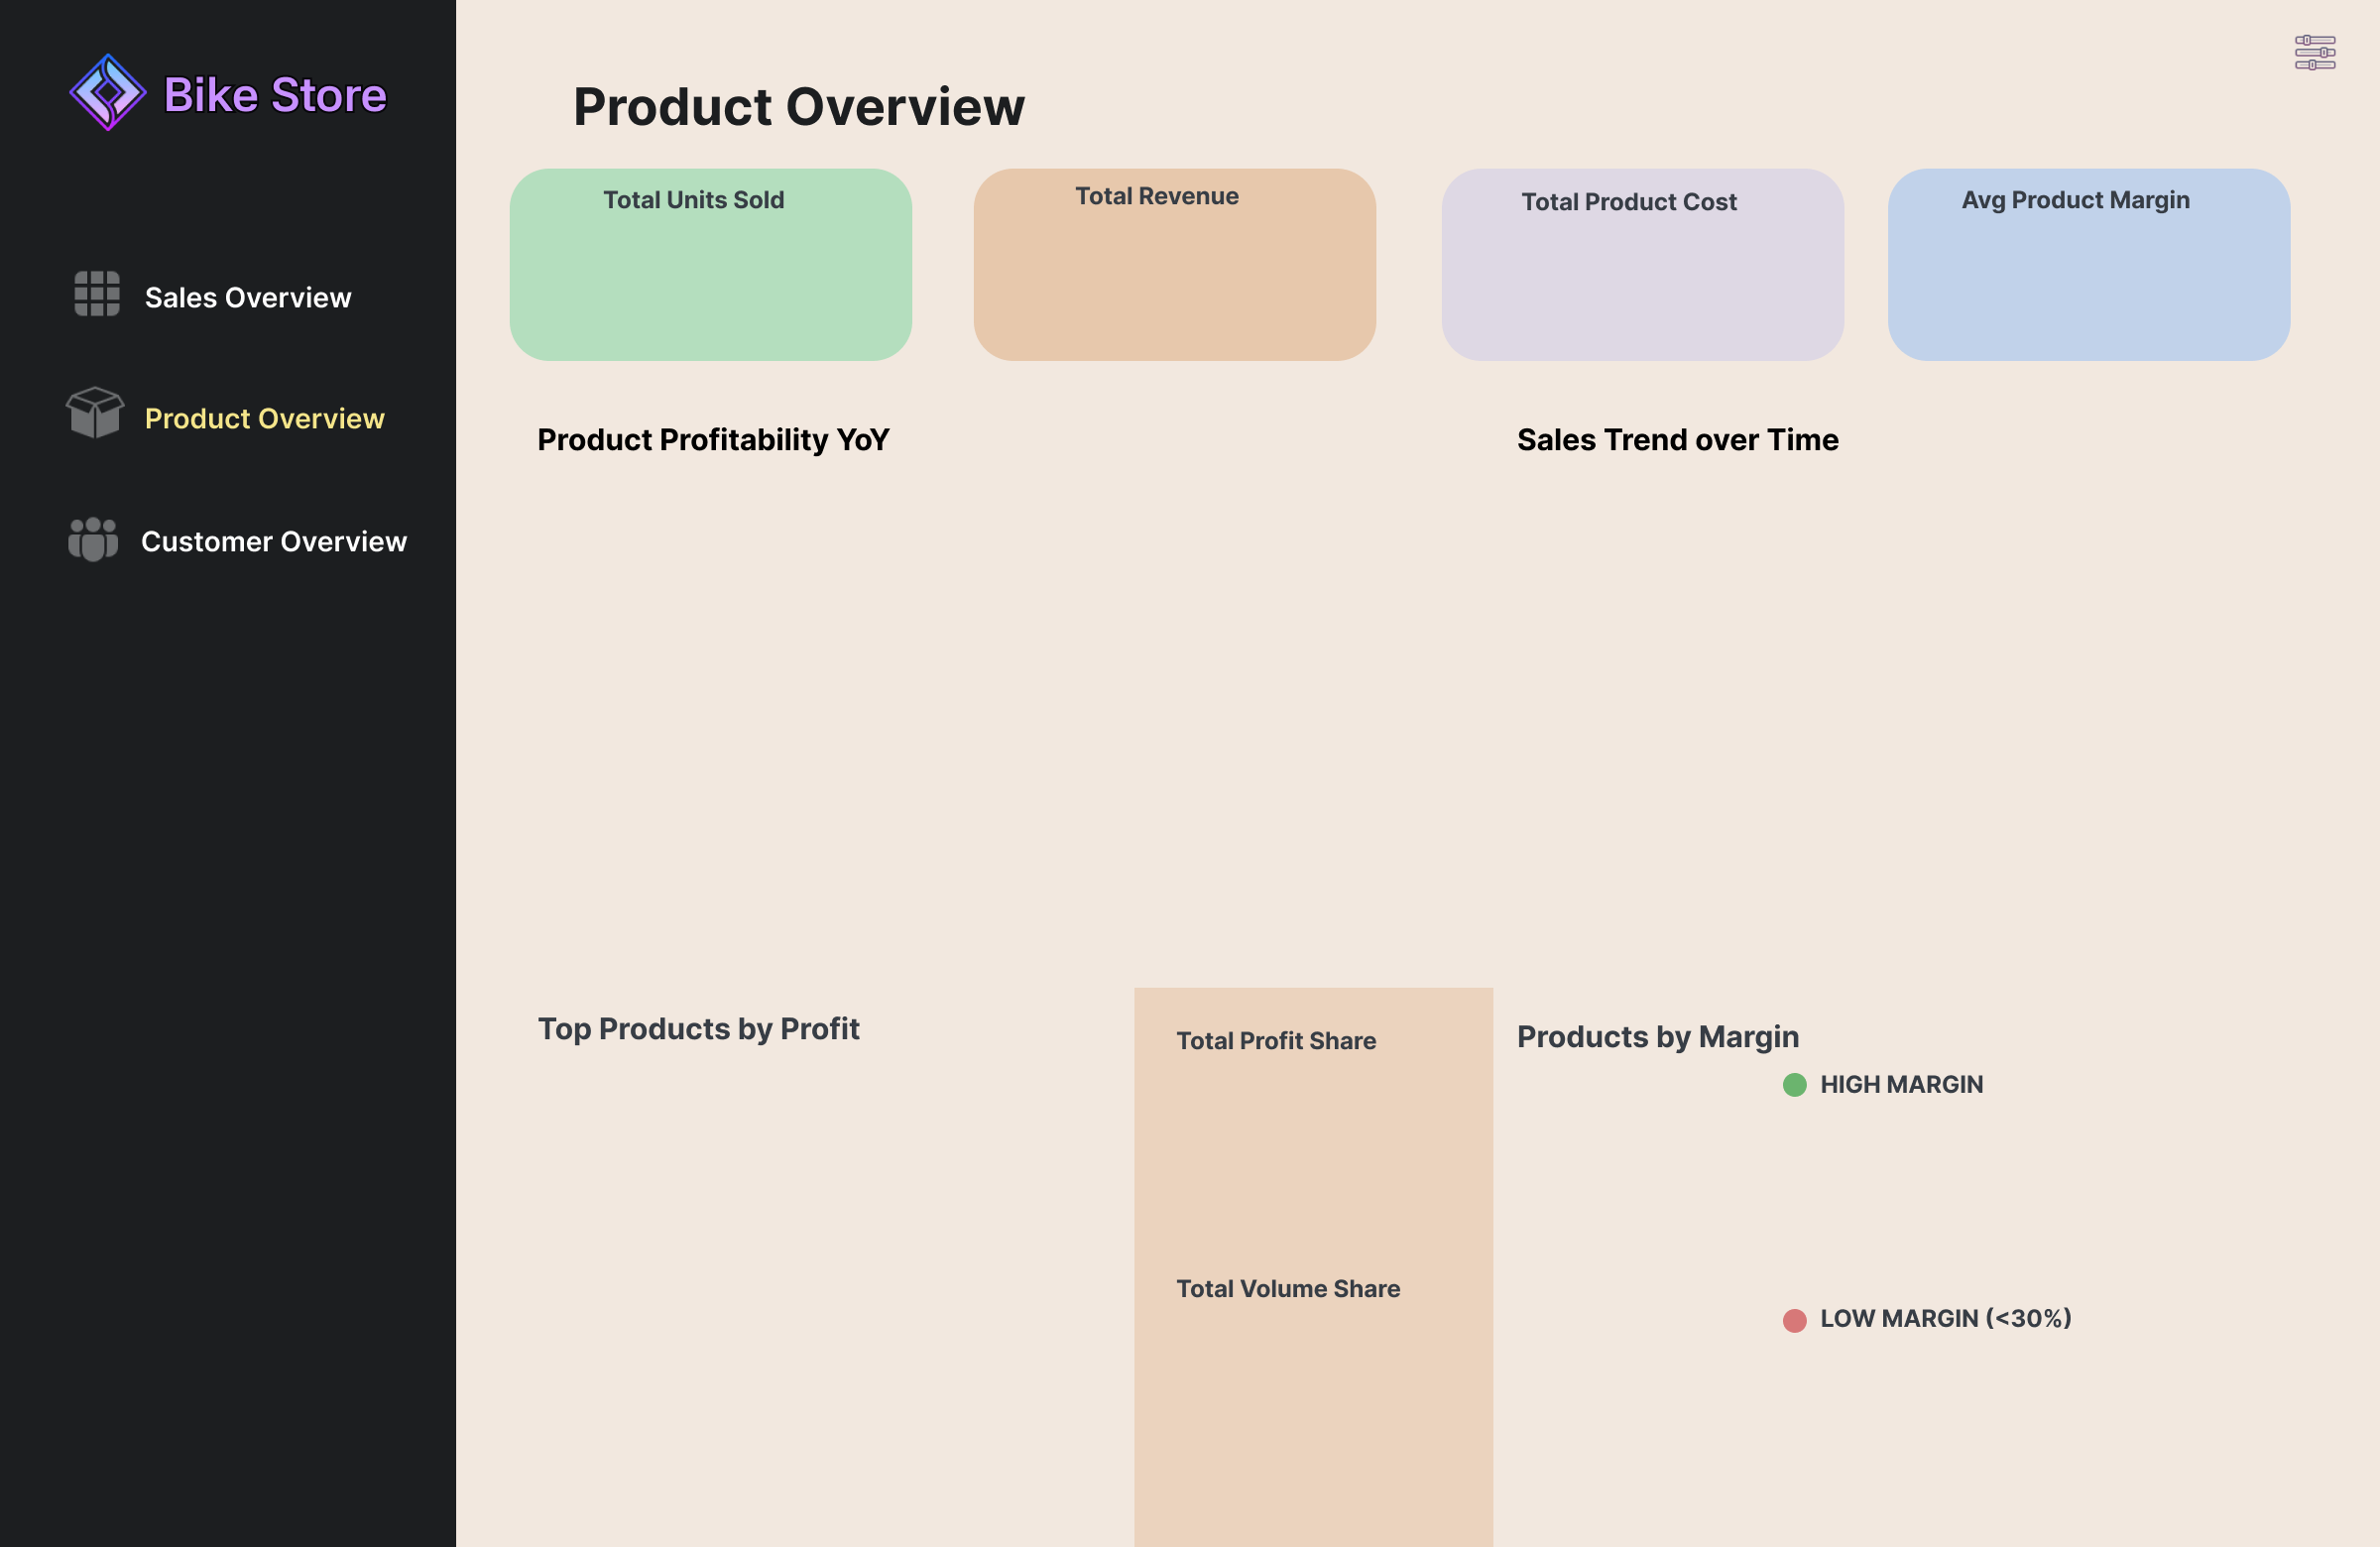

Layout of this report page (visuals, bound fields, positions):
{"tool":"powerbi","page":{"name":"Product Overview","canvas":[1920,1080],"ordinal":2},"visuals":[{"type":"cardVisual","fields":{"Data":["tb_Measures.Total Unit Sold"]},"box":[402,158,330,60],"z":0},{"type":"cardVisual","fields":{"Data":["tb_Measures.Average Product Margin"]},"box":[1524,162,330,60],"z":1000},{"type":"cardVisual","fields":{"Data":["tb_Measures.Total Product Cost"]},"box":[1160,160,326,60],"z":2000},{"type":"tableEx","fields":{"Values":["Fact_Sales.Product","tb_Measures.Sum of Profit","tb_Measures.Total Units Sold"]},"box":[401.7,710,500,370],"z":4000},{"type":"cardVisual","fields":{"Data":["tb_measures.Sum of Revenue"]},"box":[780,162,330,60],"z":5000},{"type":"cardVisual","fields":{"Data":["Top Products Volume Share.Top Products Profit Share"]},"box":[916.7,775,255,70],"z":6000},{"type":"cardVisual","fields":{"Data":["Top Products Volume Share.Top Products Volume Share"]},"box":[916.7,938.3,255,70],"z":7000},{"type":"tableEx","fields":{"Values":["Fact_Sales.Product","tb_measures.Average Product Margin"]},"box":[1307.5,932.5,525,147.5],"z":8000},{"type":"lineStackedColumnComboChart","fields":{"Category":["Dim_Date.Year"],"Y":["tb_measures.Total Units Sold"],"Y2":["tb_measures.Sum of Revenue"]},"box":[1222.5,330,698,344],"z":8250},{"type":"clusteredColumnChart","fields":{"Category":["Fact_Sales.Product_Category"],"Series":["Dim_Date.Hierarchia dat.Year"],"Y":["tb_measures.Total Profit"]},"box":[402.5,330,797.5,345],"z":8500},{"type":"tableEx","fields":{"Values":["Fact_Sales.Product","tb_measures.Average Product Margin"]},"box":[1306.7,771.7,518.3,146.7],"z":9000},{"type":"cardVisual","fields":{"Data":["tb_measures.Empty Table Message"]},"box":[1322.3,939.1,521.7,141.7],"z":10000},{"type":"cardVisual","fields":{"Data":["tb_measures.Empty Table Message high margin"]},"box":[1310,772.5,521.7,141.7],"z":11000},{"type":"actionButton","box":[18,166,328,94],"z":12000},{"type":"actionButton","box":[18,330,344,102],"z":13000},{"type":"shape","box":[774,0,1050,190],"z":14000},{"type":"slicer","fields":{"Values":["Fact_Sales.Product_Category"]},"box":[819.8,17.7,242.7,150],"z":16000},{"type":"slicer","fields":{"Values":["Fact_Sales.Sub_Category"]},"box":[1060.2,18.2,242,150],"z":17000},{"type":"slicer","fields":{"Values":["Fact_Sales.Product"]},"box":[1301.3,18.2,242,150],"z":18000},{"type":"slicer","fields":{"Values":["Dim_Date.Hierarchia dat.Year","Dim_Date.Hierarchia dat.Quarter","Dim_Date.Hierarchia dat.Month","Dim_Date.Hierarchia dat.Day"]},"box":[1542.5,17.5,242,150],"z":19000},{"type":"actionButton","box":[1734,144,90,42.5],"z":21000},{"type":"actionButton","box":[1832,0,78,62],"z":21500}]}

Visuals, with their boxes on the page's 1920x1080 design canvas (x1, y1, x2, y2). These are canvas units, not pixel positions in the 2380x1547 screenshot, which may show the page scaled, cropped or inside an application window:
cardVisual - tb_Measures.Total Unit Sold: (402,158,732,218)
cardVisual - tb_Measures.Average Product Margin: (1524,162,1854,222)
cardVisual - tb_Measures.Total Product Cost: (1160,160,1486,220)
tableEx - Fact_Sales.Product x tb_Measures.Sum of Profit: (402,710,902,1080)
cardVisual - tb_measures.Sum of Revenue: (780,162,1110,222)
cardVisual - Top Products Volume Share.Top Products Profit Share: (917,775,1172,845)
cardVisual - Top Products Volume Share.Top Products Volume Share: (917,938,1172,1008)
tableEx - Fact_Sales.Product x tb_measures.Average Product Margin: (1308,932,1832,1080)
lineStackedColumnComboChart - Dim_Date.Year x tb_measures.Total Units Sold: (1222,330,1920,674)
clusteredColumnChart - Fact_Sales.Product_Category x Dim_Date.Hierarchia dat.Year: (402,330,1200,675)
tableEx - Fact_Sales.Product x tb_measures.Average Product Margin: (1307,772,1825,918)
cardVisual - tb_measures.Empty Table Message: (1322,939,1844,1081)
cardVisual - tb_measures.Empty Table Message high margin: (1310,772,1832,914)
actionButton: (18,166,346,260)
actionButton: (18,330,362,432)
shape: (774,0,1824,190)
slicer - Fact_Sales.Product_Category: (820,18,1062,168)
slicer - Fact_Sales.Sub_Category: (1060,18,1302,168)
slicer - Fact_Sales.Product: (1301,18,1543,168)
slicer - Dim_Date.Hierarchia dat.Year x Dim_Date.Hierarchia dat.Quarter: (1542,18,1784,168)
actionButton: (1734,144,1824,186)
actionButton: (1832,0,1910,62)
